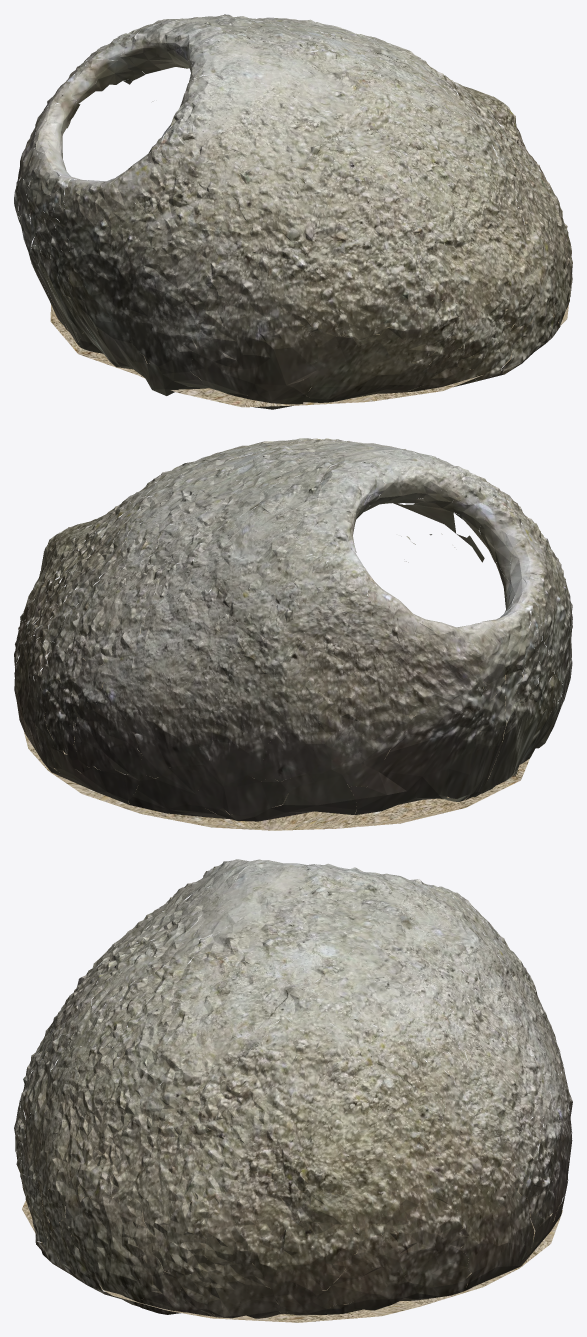
File: FroggyPotCompact.glb
The picture shows the model from 3 angles, top to bottom: view 1: azimuth 30°, elevation 25°; view 2: azimuth 150°, elevation 25°; view 3: azimuth 270°, elevation 25°; orthographic projection. The views are drawn at different scales.
Visible parts, largest first — view 1: Mesh_0.001, Plane; view 2: Mesh_0.001, Plane; view 3: Mesh_0.001, Plane.
Boxes of the visible parts, <box> form: Mesh_0.001: <box>14,14,572,409</box>; Plane: <box>50,207,568,407</box>; Mesh_0.001: <box>14,438,572,821</box>; Plane: <box>24,614,546,830</box>; Mesh_0.001: <box>14,859,572,1318</box>; Plane: <box>22,1088,562,1322</box>.
Bounding box in the file's own units: 3.04 × 1.72 × 2.87.
2 materials, 2 textured.
